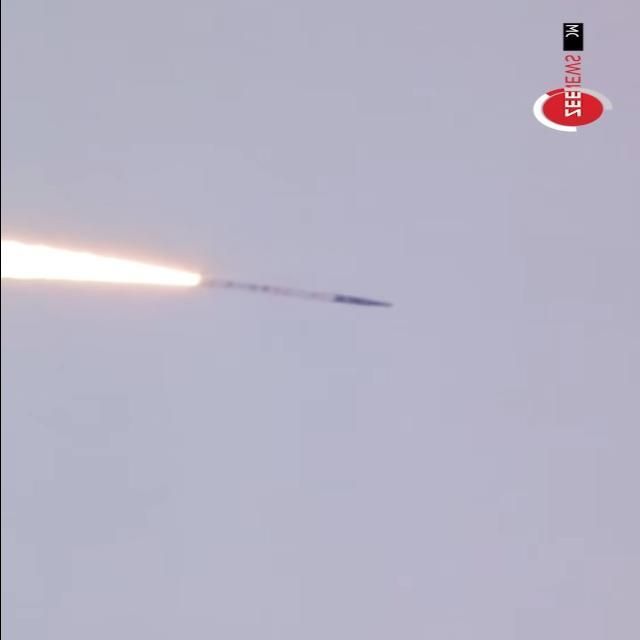missile: (181, 266, 409, 310)
